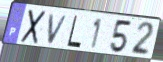1: (90, 18, 102, 51)
2: (130, 21, 156, 57)
5: (108, 18, 136, 55)
L: (65, 15, 82, 50)
V: (47, 13, 70, 46)
X: (19, 9, 48, 46)
